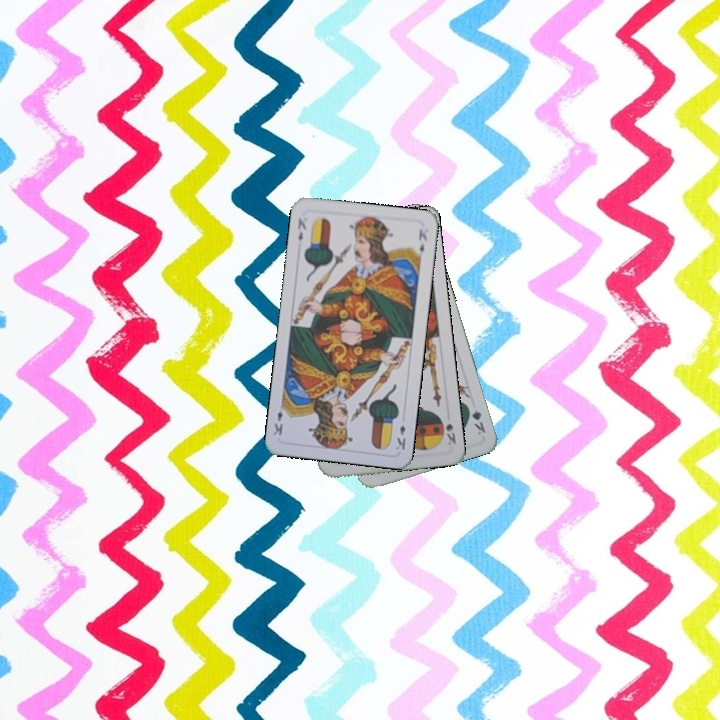EK: (392, 421, 408, 452), (293, 214, 309, 243)
GK: (463, 400, 488, 438)
SK: (442, 419, 458, 448)
